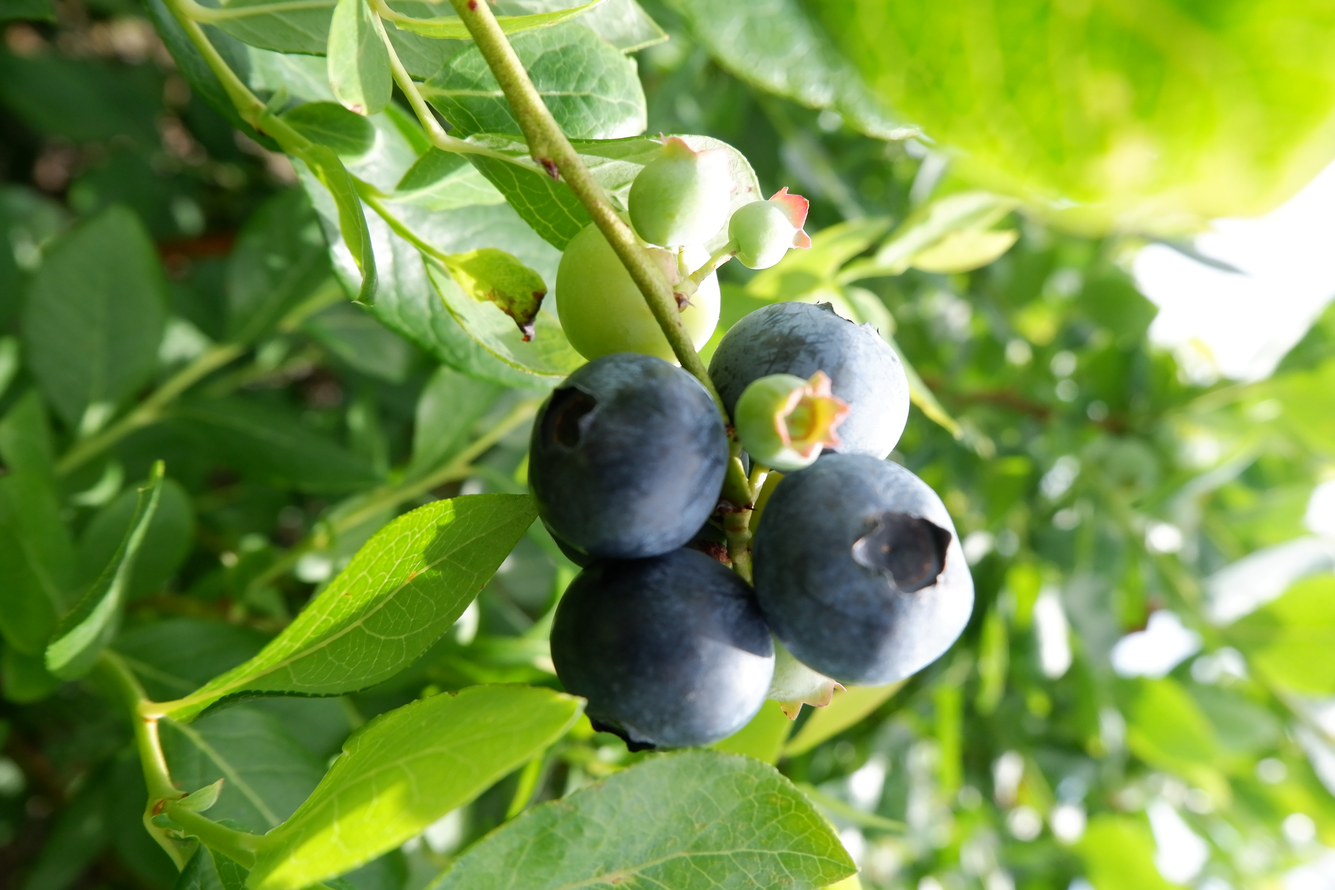Immature: (557, 212, 719, 361), (633, 136, 758, 254), (738, 378, 837, 468), (731, 193, 807, 268), (769, 647, 837, 716)
Mature: (756, 461, 967, 680), (534, 356, 729, 570), (554, 556, 769, 748), (710, 305, 908, 455)
